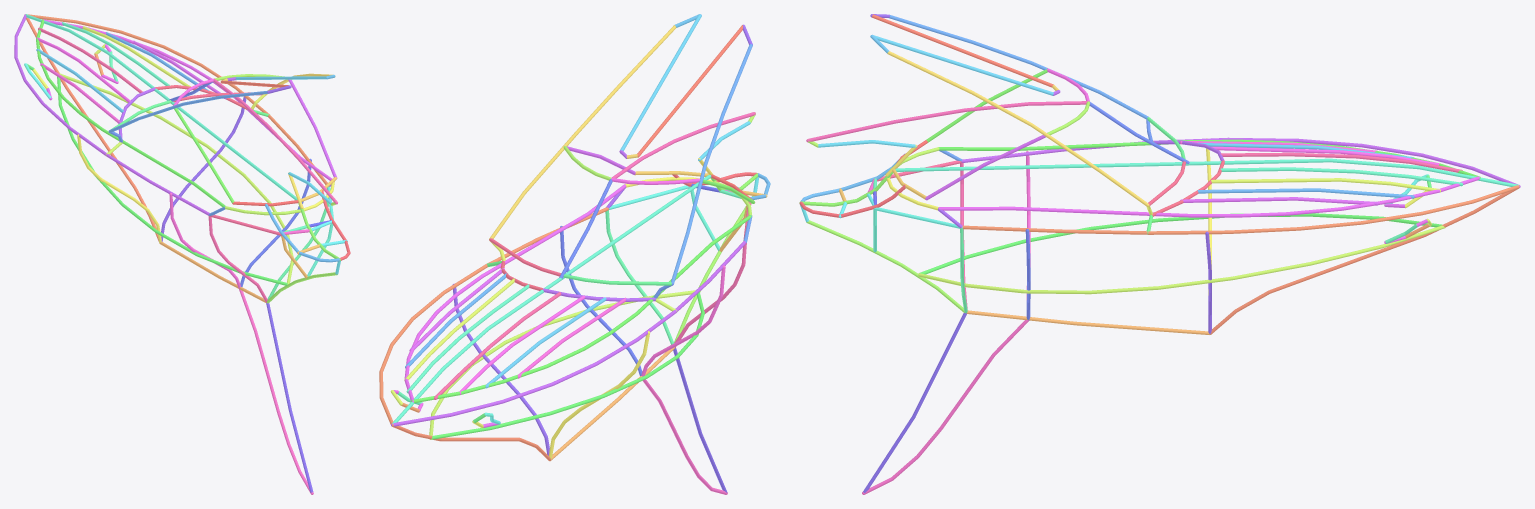
The model's file is ils_boat.gltf.
The picture shows the model from 3 angles, left to right: view 1: azimuth 30°, elevation 25°; view 2: azimuth 150°, elevation 25°; view 3: azimuth 270°, elevation 25°; orthographic projection. The views are drawn at different scales.
Size of the model in its own units: 0.2458 by 0.5699 by 0.7922.
